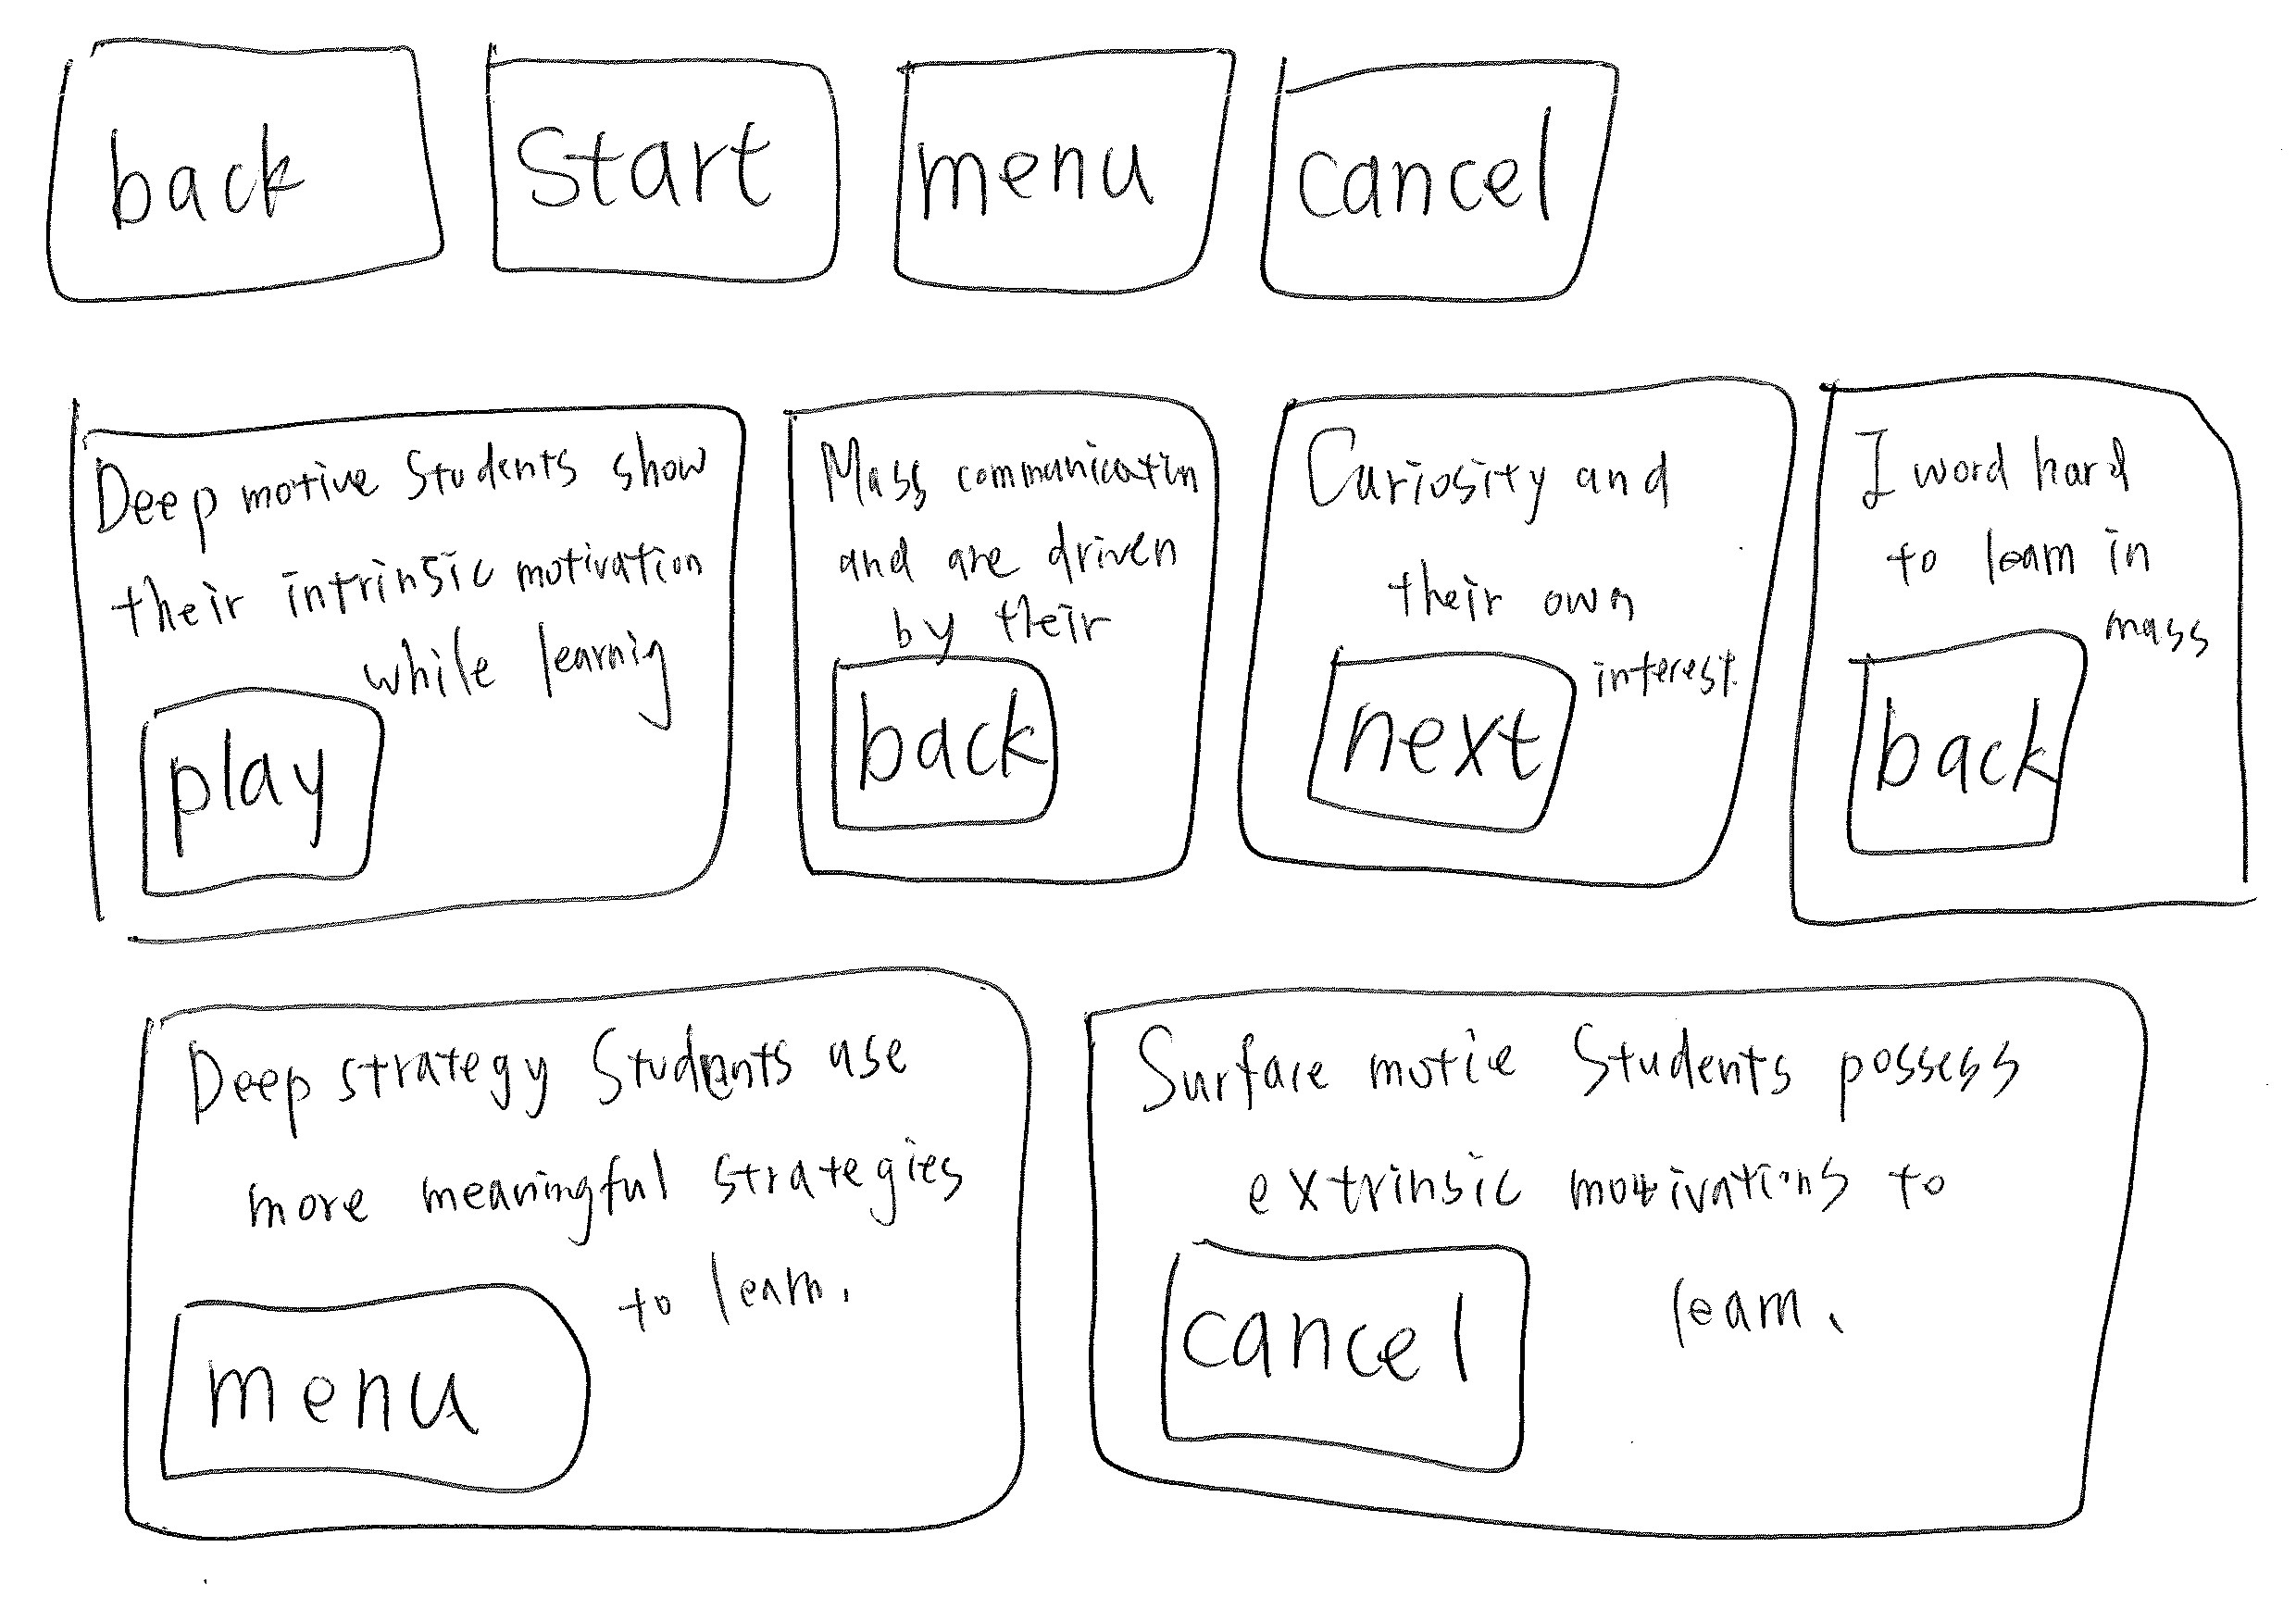back: (26, 28, 442, 319), (1831, 623, 2094, 888), (813, 639, 1099, 855)
cancel: (1243, 30, 1634, 344), (1132, 1218, 1568, 1482)
menu: (878, 35, 1267, 328), (151, 1267, 618, 1511)
next: (1288, 613, 1601, 843)
play: (105, 664, 404, 908)
row: (18, 346, 2296, 955), (18, 922, 2296, 1531), (18, 16, 2296, 332)
small-title: (1134, 1011, 2024, 1122), (158, 1022, 906, 1108), (1299, 414, 1722, 527), (98, 448, 690, 511), (1847, 405, 2147, 521), (818, 427, 1171, 516)
start: (462, 30, 869, 319)
text: (1636, 1178, 2041, 1382), (230, 1134, 972, 1238), (1192, 1122, 1968, 1220), (355, 546, 685, 725), (139, 516, 648, 628), (618, 1171, 951, 1336), (822, 532, 1167, 655), (1378, 527, 1683, 620), (1866, 525, 2191, 595), (1590, 611, 1743, 714), (2108, 556, 2205, 679)
